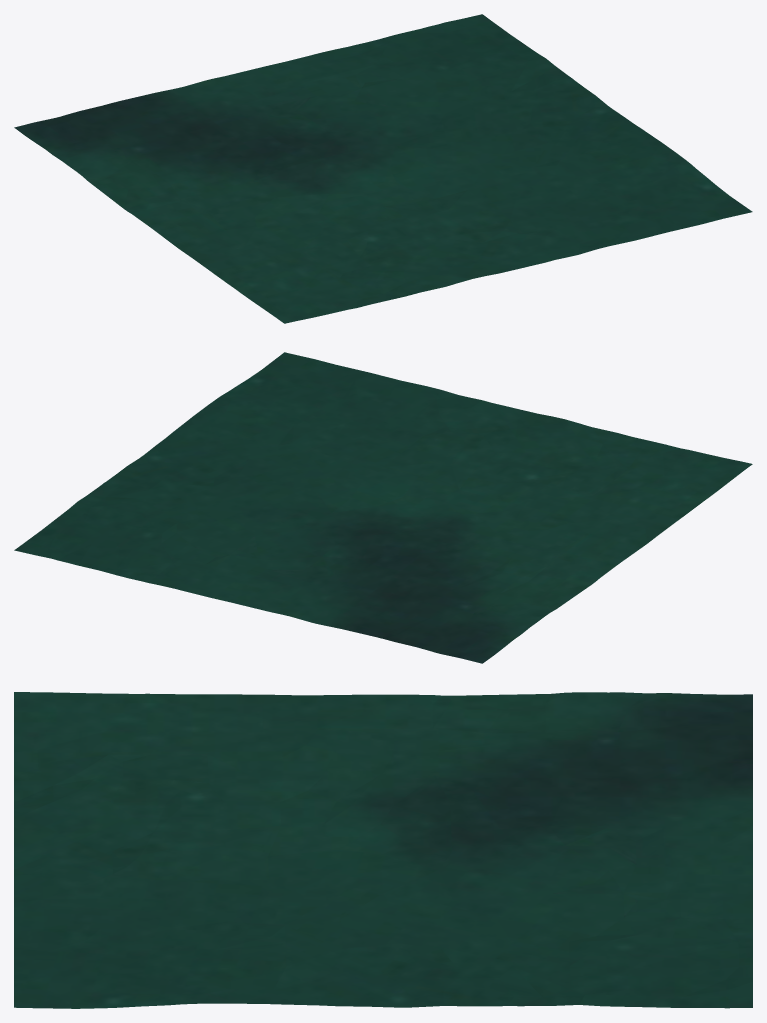
3 views of the same model, one above another, from view 1: azimuth 30°, elevation 25°; view 2: azimuth 150°, elevation 25°; view 3: azimuth 270°, elevation 25° (orthographic). The views are drawn at different scales.
Size of the model in its own units: 52.22 by 0.4558 by 52.22.
2 materials, 2 textured.
